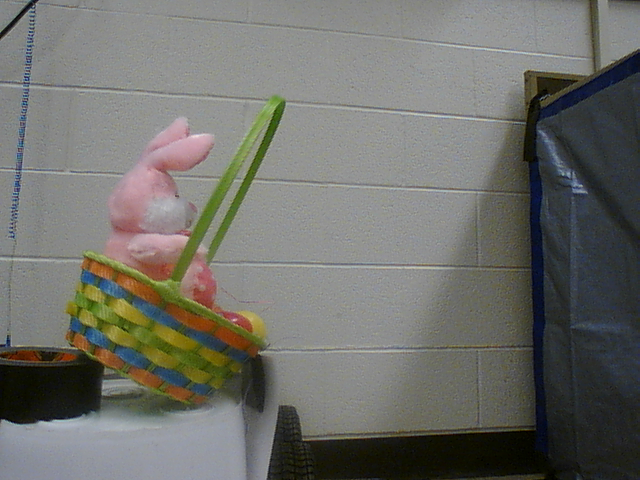bunny: (55, 95, 291, 413)
